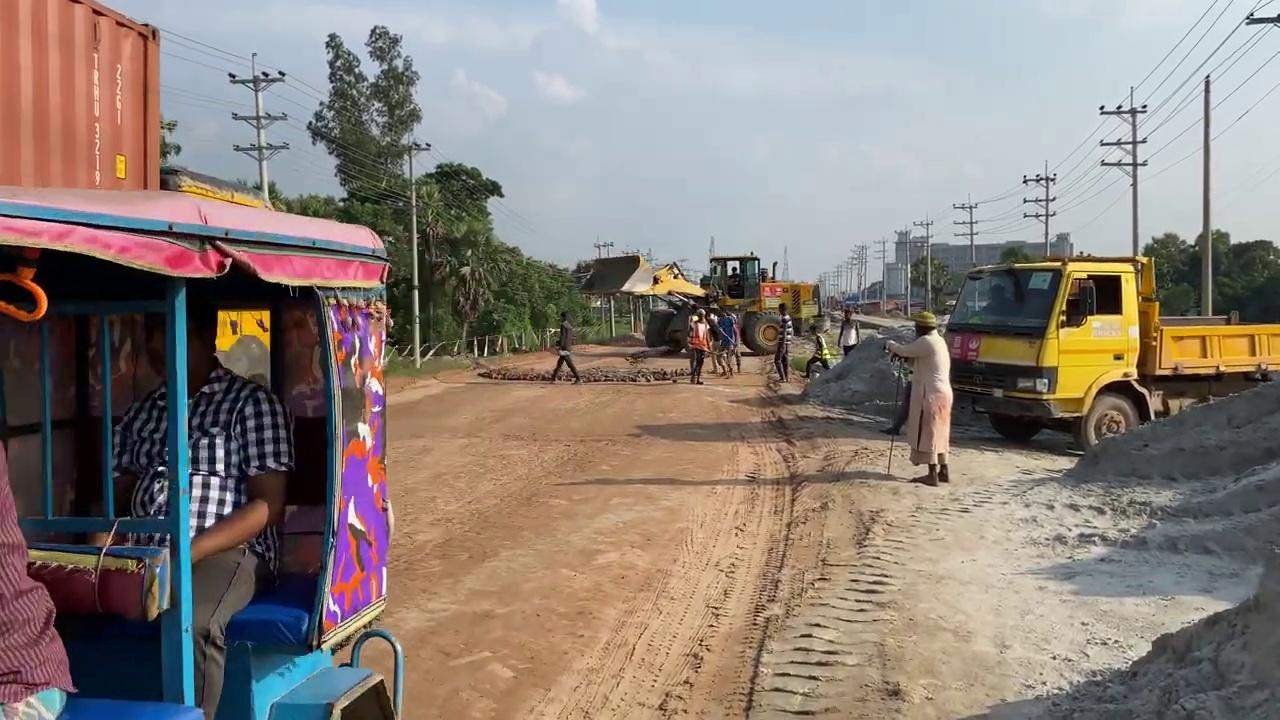Pole: (164, 276, 195, 705), (1200, 73, 1213, 316)
Tree: (0, 183, 403, 717), (940, 250, 1279, 453), (633, 250, 824, 356), (633, 260, 710, 353)
